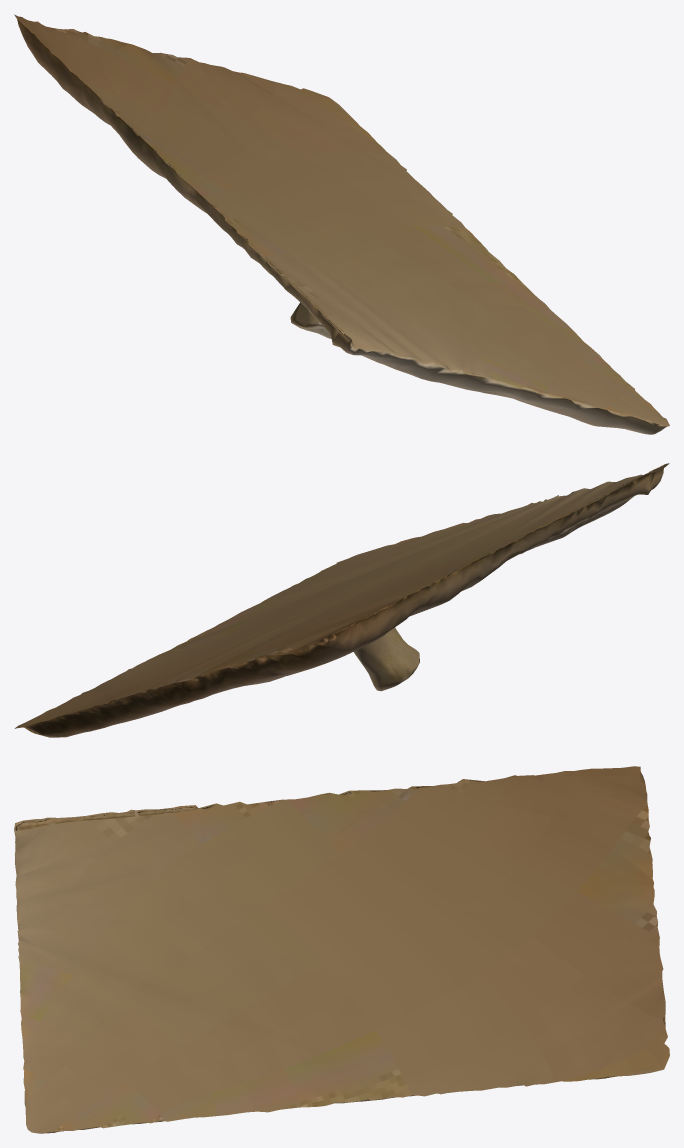
File: lightswitch.obj
The picture shows the model from 3 angles, top to bottom: view 1: azimuth 30°, elevation 25°; view 2: azimuth 150°, elevation 25°; view 3: azimuth 270°, elevation 25°; orthographic projection. The views are drawn at different scales.
Size of the model in its own units: 11.22 by 7.87 by 20.29.
Materials: 1 (1 with a texture image).
